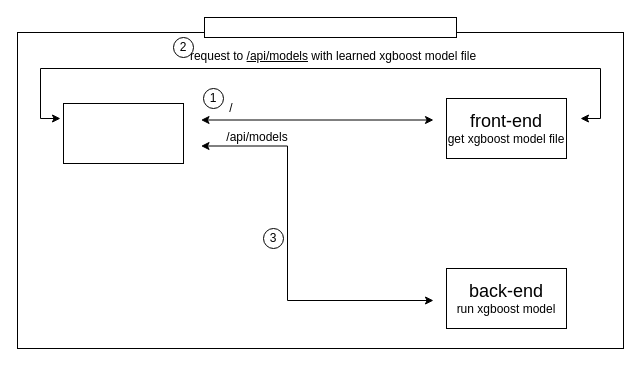
The diagram is 641 pixels wide and 366 high, and some of its shapes have lost their labels. Here are the shapes that lost their labels. From the top down, the centre of each, then its label:
the point at 330,27: multiple containers using docker compose
the point at 123,133: nginx access entry point (proxy by url)
